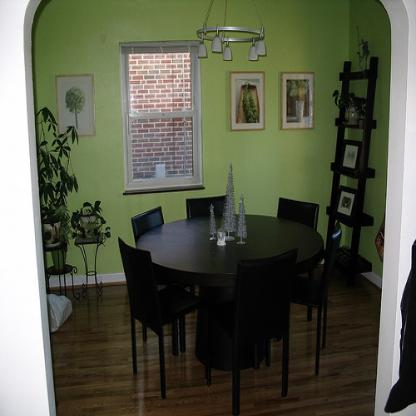chair: (204, 245, 299, 415), (117, 236, 212, 400), (130, 205, 194, 344), (282, 220, 342, 346), (275, 195, 321, 322), (184, 193, 230, 220)
pottedplant: (40, 106, 79, 268), (70, 200, 110, 240)
